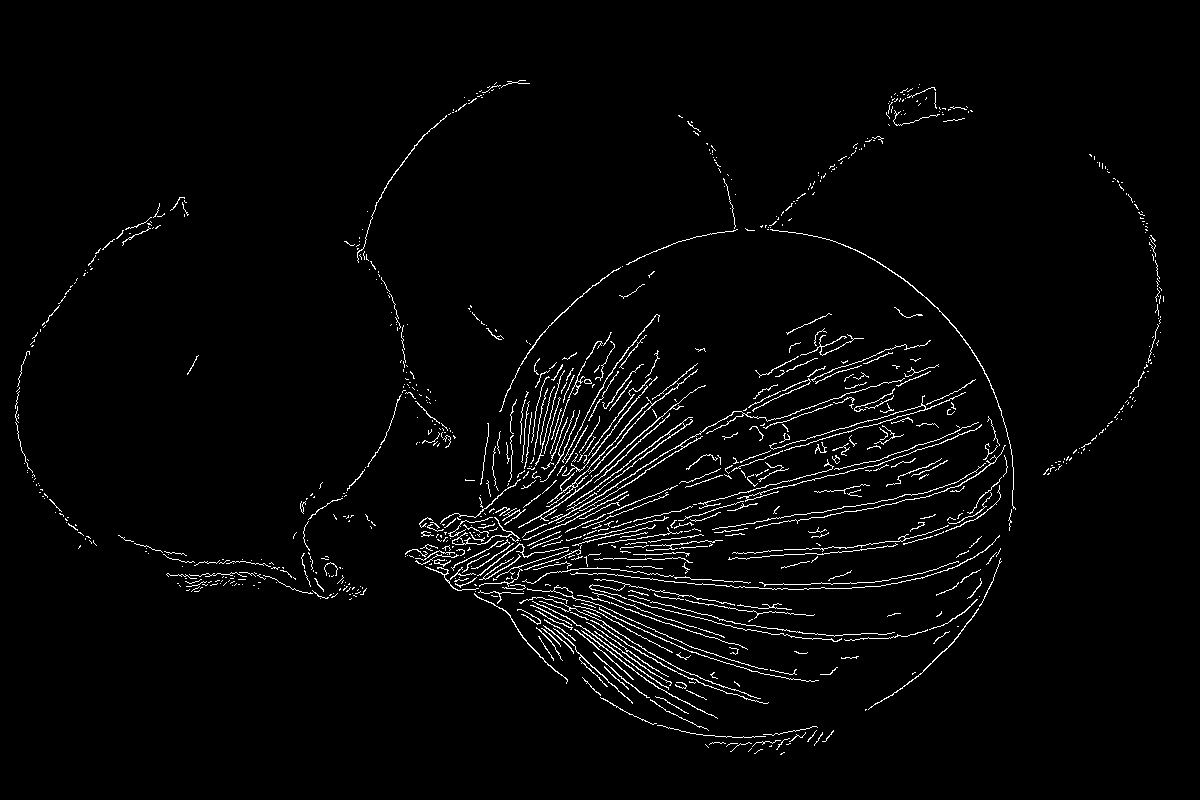onion: (408, 199, 1021, 762), (11, 147, 397, 620), (784, 57, 1184, 489), (363, 44, 737, 407)
